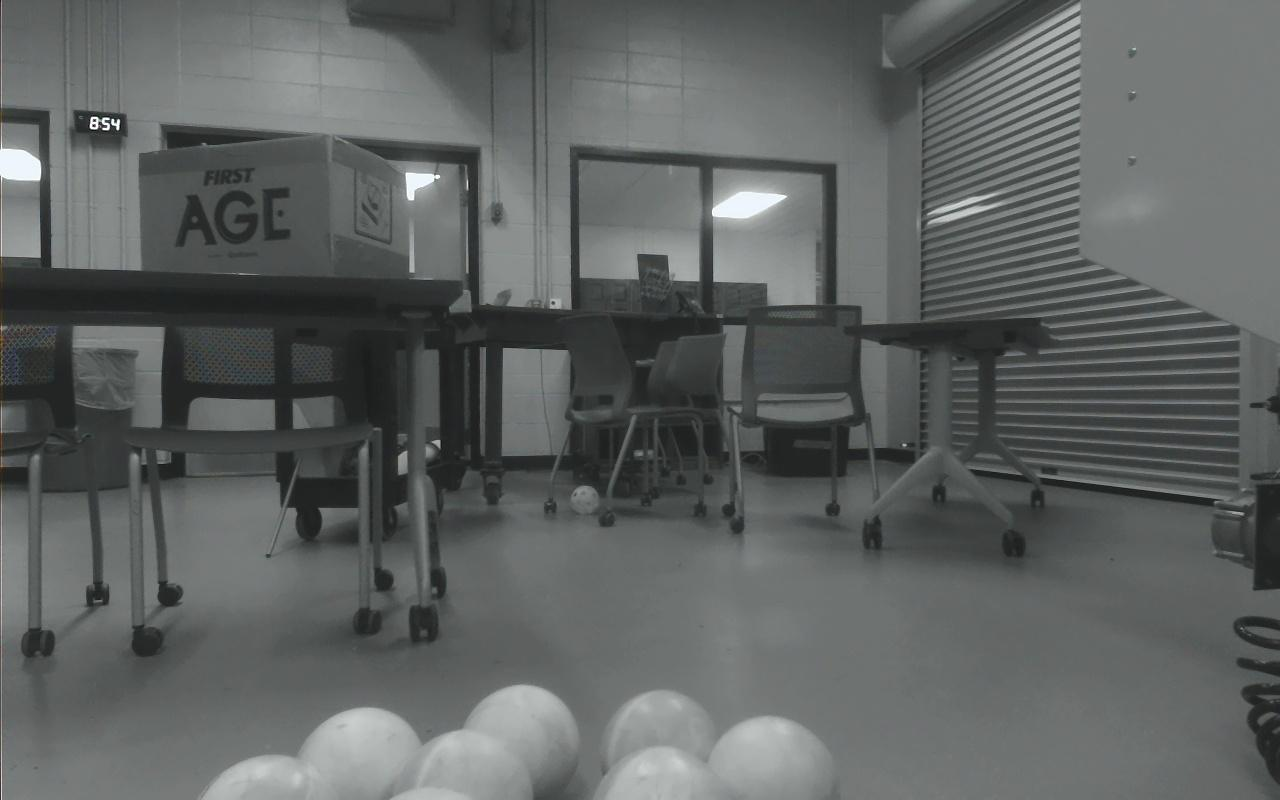Fuel: (461, 684, 581, 800), (600, 690, 717, 791), (297, 707, 422, 800), (707, 716, 840, 800), (397, 730, 534, 800), (591, 746, 731, 800), (198, 755, 339, 800), (381, 786, 476, 800)
